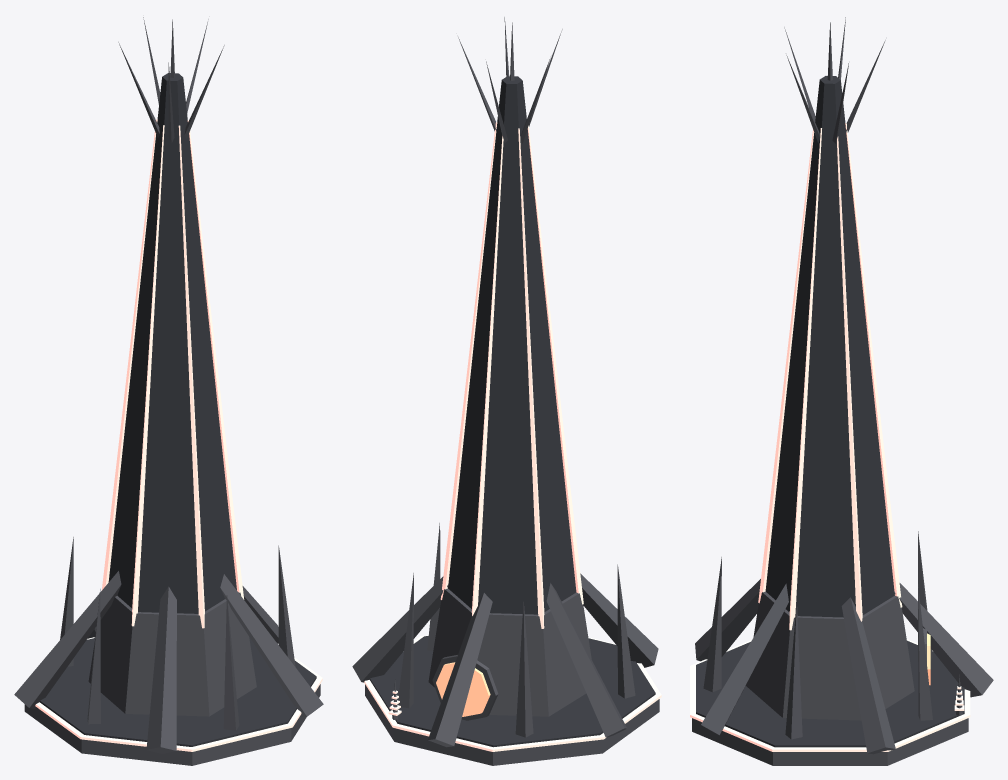
File: zone_high_1_t5.glb
3 views of the same model, side by side, from view 1: azimuth 30°, elevation 25°; view 2: azimuth 150°, elevation 25°; view 3: azimuth 270°, elevation 25° (orthographic).
Visible parts, largest first — view 1: zone_high_1_t5; view 2: zone_high_1_t5; view 3: zone_high_1_t5.
Boxes of the visible parts, bbox=[...] form: zone_high_1_t5: bbox=[14, 17, 323, 765]; zone_high_1_t5: bbox=[352, 17, 661, 765]; zone_high_1_t5: bbox=[690, 17, 993, 765].
Bounding box in the file's own units: 30.35 × 74.15 × 29.63.
